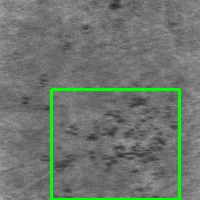rolled-in_scale: (51, 89, 179, 199)
